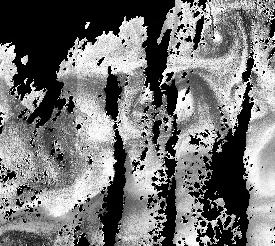CE: (197, 13, 250, 68)
